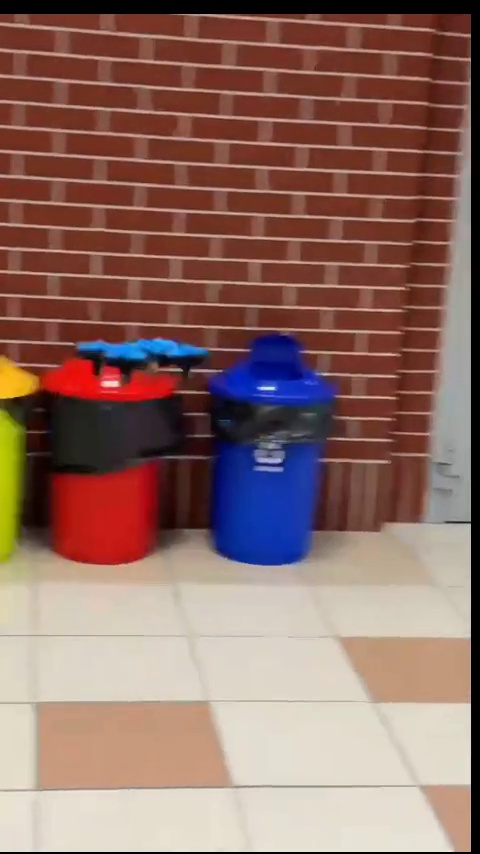drone: (78, 335, 215, 380)
